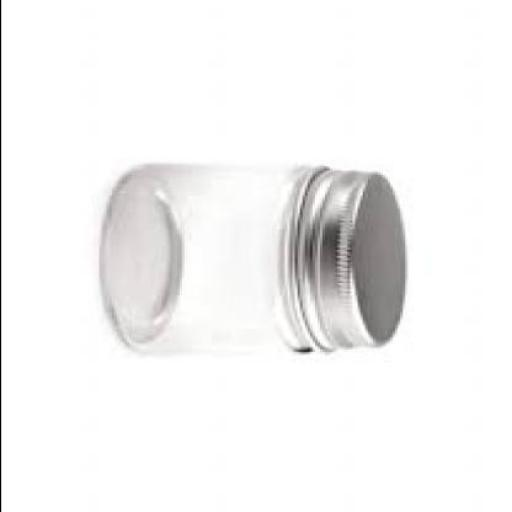glass: (100, 166, 314, 356)
metal: (296, 170, 407, 354)
